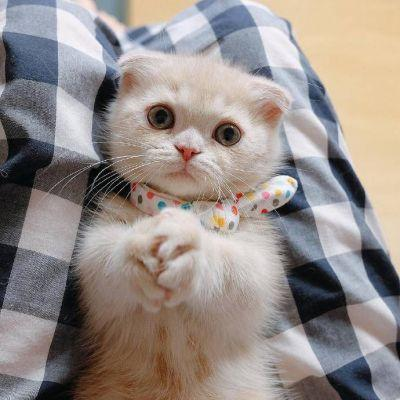cat: (92, 44, 304, 214)
